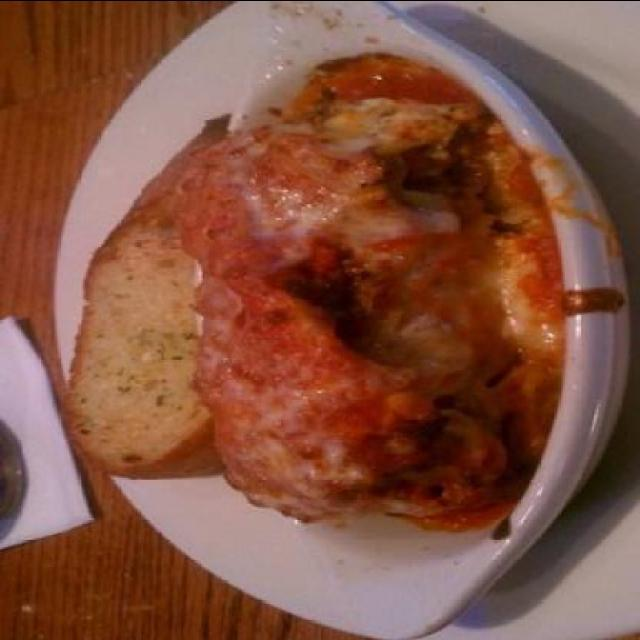Lasagna: (186, 64, 564, 528)
